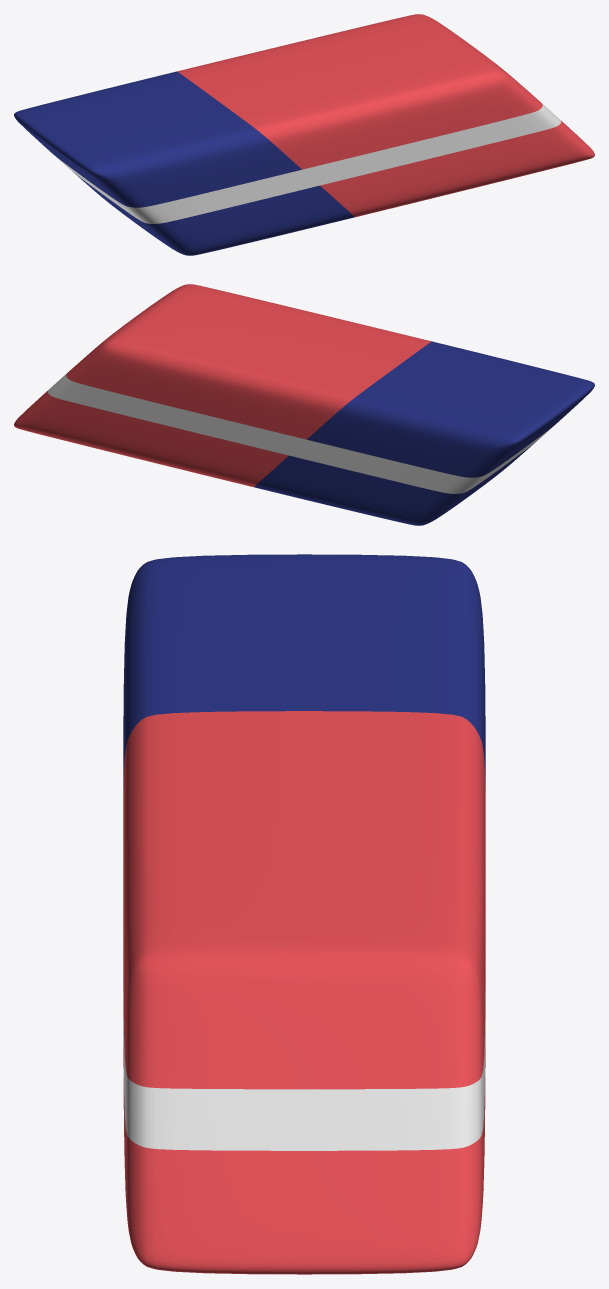
Rendered from eraser.fbx.
3 renders of one model, top to bottom at view 1: azimuth 30°, elevation 25°; view 2: azimuth 150°, elevation 25°; view 3: azimuth 270°, elevation 25°, orthographic. The views are drawn at different scales.
Visible parts, largest first — view 1: Eraser; view 2: Eraser; view 3: Eraser.
Boxes of the visible parts, x1,y1,x2,y2 form: Eraser: (14, 14, 594, 255); Eraser: (14, 284, 594, 525); Eraser: (123, 554, 485, 1274).
Size of the model in its own units: 649 by 141 by 200.
